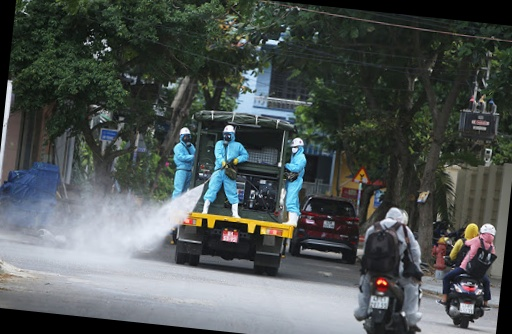plate: (369, 292, 391, 311), (456, 300, 477, 317), (220, 225, 239, 242), (321, 219, 336, 231)
